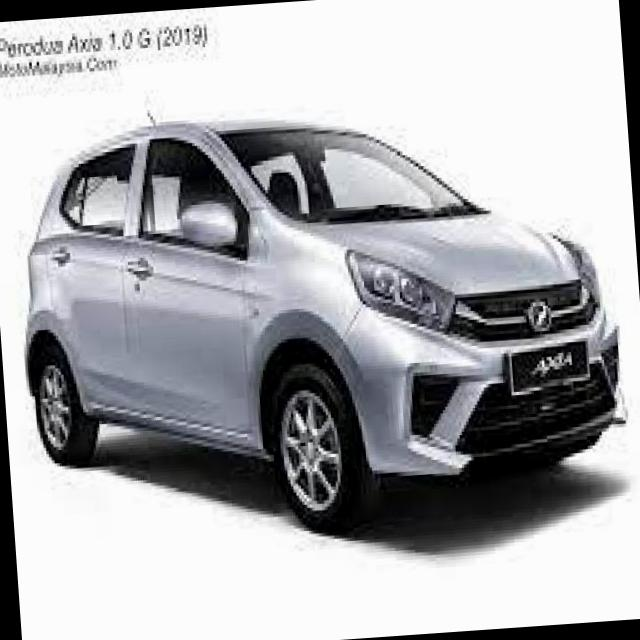PeroduaAxia: (6, 77, 634, 556)
